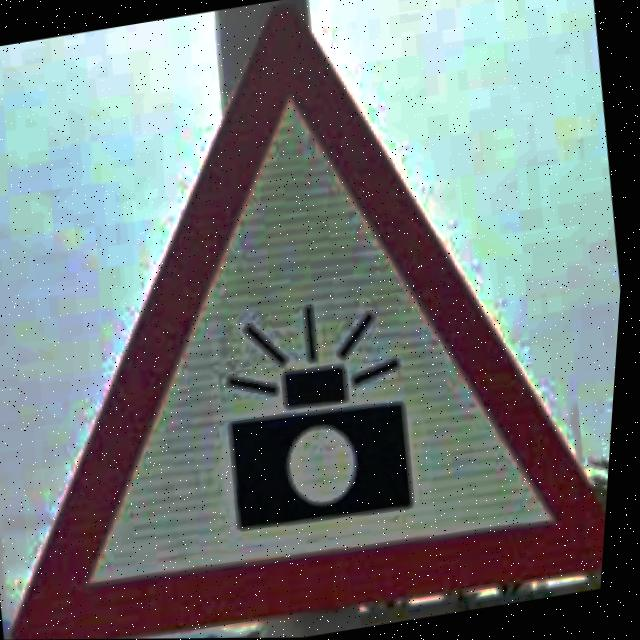speedcamera: (24, 7, 613, 640)
